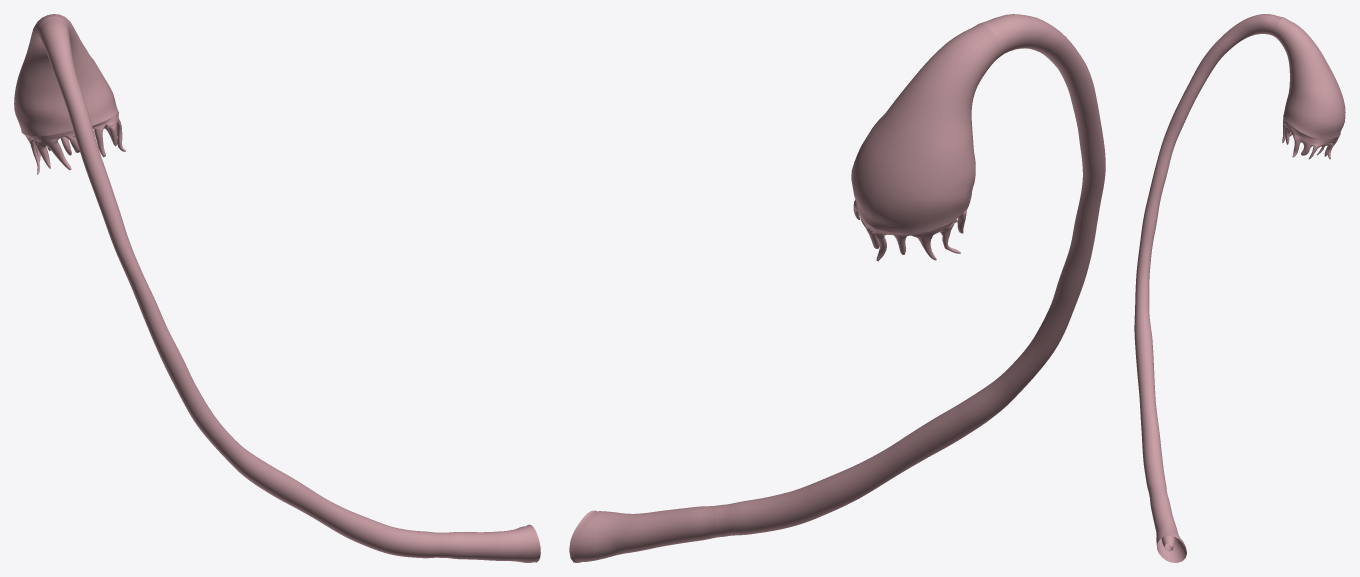
Rendered from 3DPX-020965.glb.
3 renders of one model, left to right at view 1: azimuth 30°, elevation 25°; view 2: azimuth 150°, elevation 25°; view 3: azimuth 270°, elevation 25°, orthographic. The views are drawn at different scales.
Parts seen in each view (by area): view 1: VH_F_ampulla_of_uterine_tube_R, VH_F_uterine_tube_infundibulum_R, VH_F_isthmus_of_fallopian_tube_R, VH_F_fibria_of_uterine_tube_R; view 2: VH_F_ampulla_of_uterine_tube_R, VH_F_uterine_tube_infundibulum_R, VH_F_isthmus_of_fallopian_tube_R, VH_F_fibria_of_uterine_tube_R; view 3: VH_F_ampulla_of_uterine_tube_R, VH_F_uterine_tube_infundibulum_R, VH_F_isthmus_of_fallopian_tube_R, VH_F_fibria_of_uterine_tube_R.
Part boxes in pixels (bbox=[...]): VH_F_ampulla_of_uterine_tube_R: bbox=[37, 16, 450, 558]; VH_F_uterine_tube_infundibulum_R: bbox=[14, 14, 118, 136]; VH_F_isthmus_of_fallopian_tube_R: bbox=[442, 524, 540, 562]; VH_F_fibria_of_uterine_tube_R: bbox=[22, 112, 125, 174]; VH_F_ampulla_of_uterine_tube_R: bbox=[715, 14, 1105, 536]; VH_F_uterine_tube_infundibulum_R: bbox=[851, 23, 1001, 233]; VH_F_isthmus_of_fallopian_tube_R: bbox=[569, 505, 722, 562]; VH_F_fibria_of_uterine_tube_R: bbox=[853, 200, 967, 261]; VH_F_ampulla_of_uterine_tube_R: bbox=[1134, 14, 1283, 493]; VH_F_uterine_tube_infundibulum_R: bbox=[1273, 17, 1345, 139]; VH_F_isthmus_of_fallopian_tube_R: bbox=[1149, 488, 1186, 562]; VH_F_fibria_of_uterine_tube_R: bbox=[1282, 117, 1339, 159].
Bounding box in the file's own units: 0.3441 × 0.446 × 0.2087.
